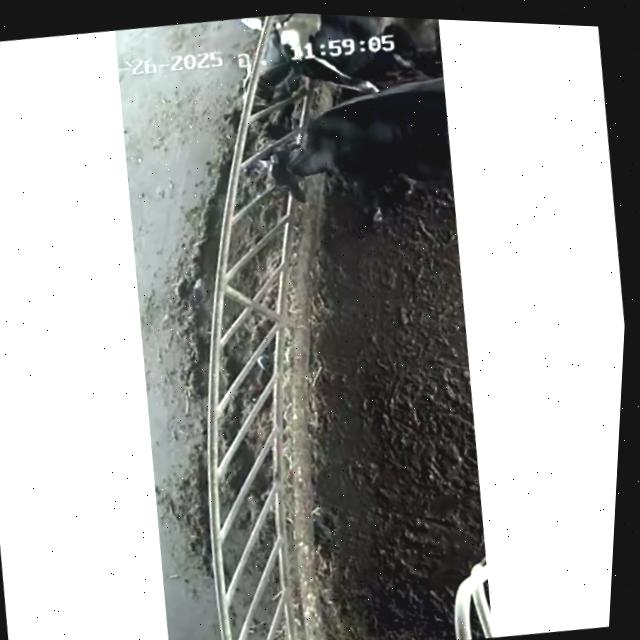eat: (198, 79, 388, 240)
